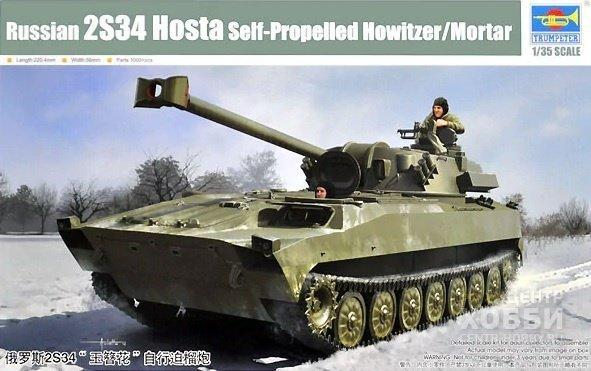sau: (51, 68, 549, 345)
